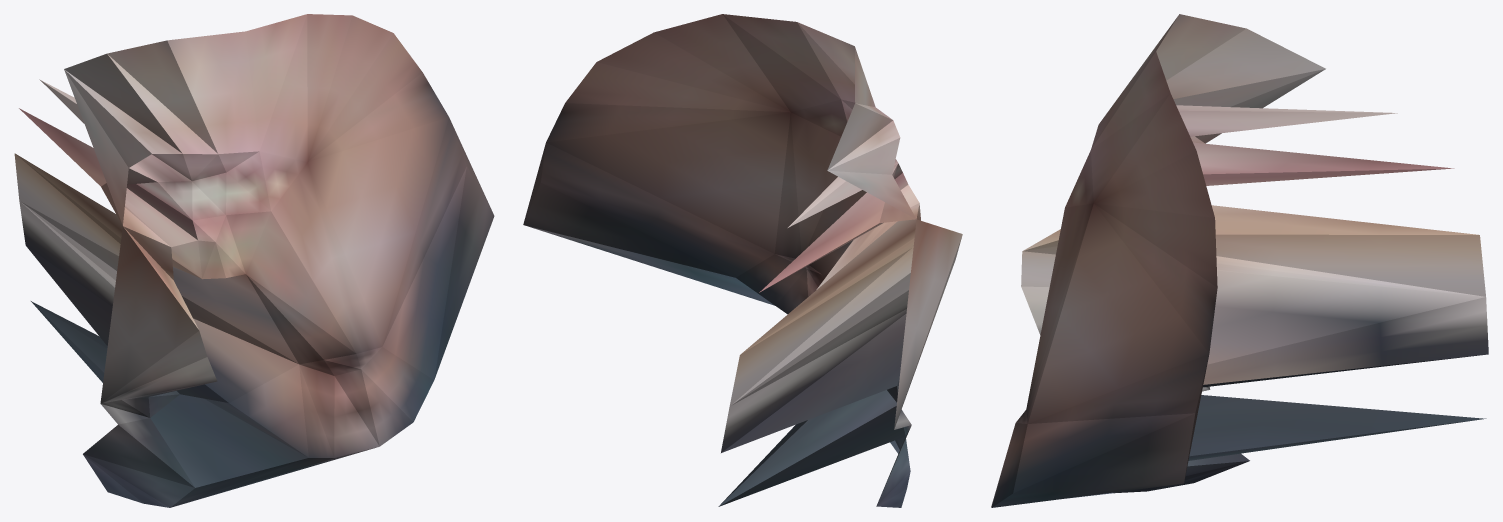
File: fake_11864.obj
3 renders of one model, left to right at view 1: azimuth 30°, elevation 25°; view 2: azimuth 150°, elevation 25°; view 3: azimuth 270°, elevation 25°, orthographic. The views are drawn at different scales.
Size of the model in its own units: 101 by 112 by 101.
